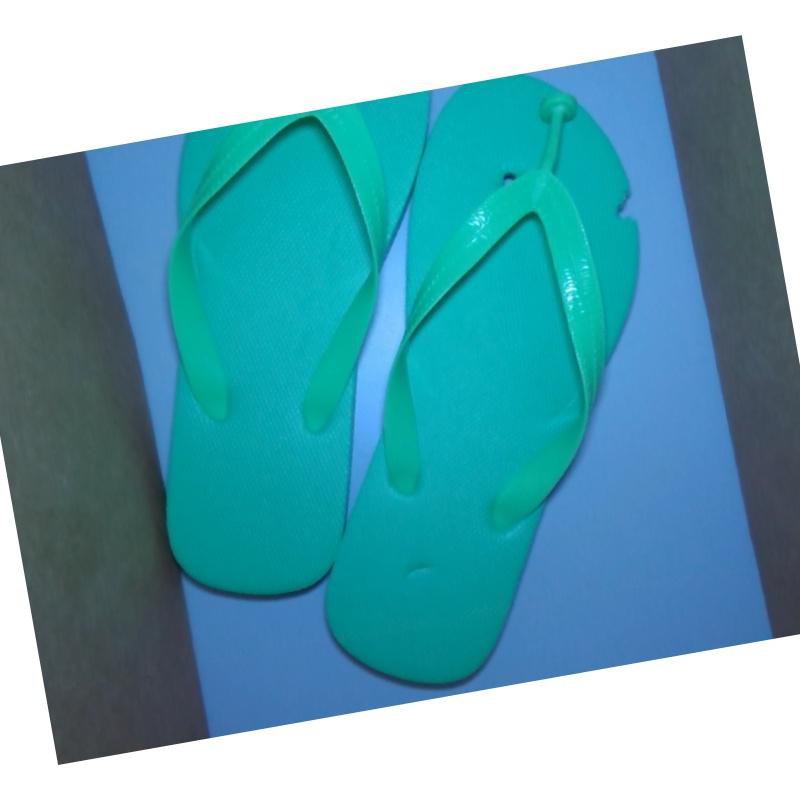chipped: (607, 175, 651, 243)
detached: (529, 84, 593, 151)
